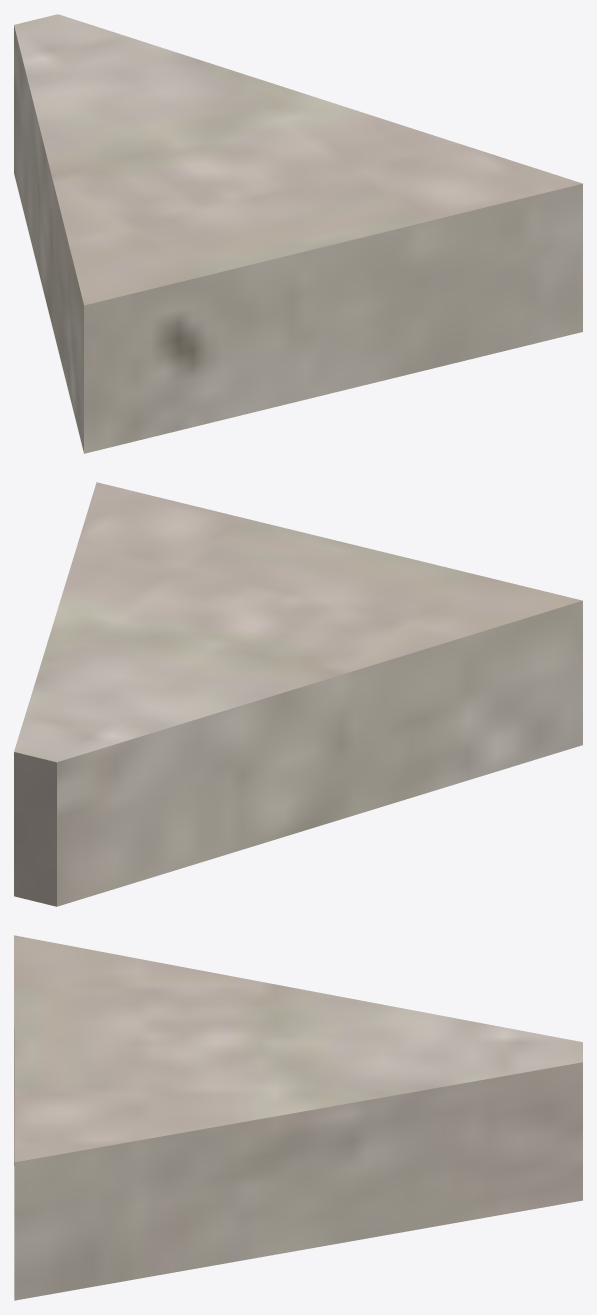
Rendered from pasted__marble_tile_67.fbx.
The picture shows the model from 3 angles, top to bottom: view 1: azimuth 30°, elevation 25°; view 2: azimuth 150°, elevation 25°; view 3: azimuth 270°, elevation 25°; orthographic projection. The views are drawn at different scales.
Visible parts, largest first — view 1: pasted__marble_tile_67; view 2: pasted__marble_tile_67; view 3: pasted__marble_tile_67.
Part boxes in pixels (bbox=[...]): pasted__marble_tile_67: bbox=[14, 14, 582, 453]; pasted__marble_tile_67: bbox=[14, 482, 582, 906]; pasted__marble_tile_67: bbox=[14, 935, 582, 1300].
Size of the model in its own units: 10.57 by 11.19 by 3.
